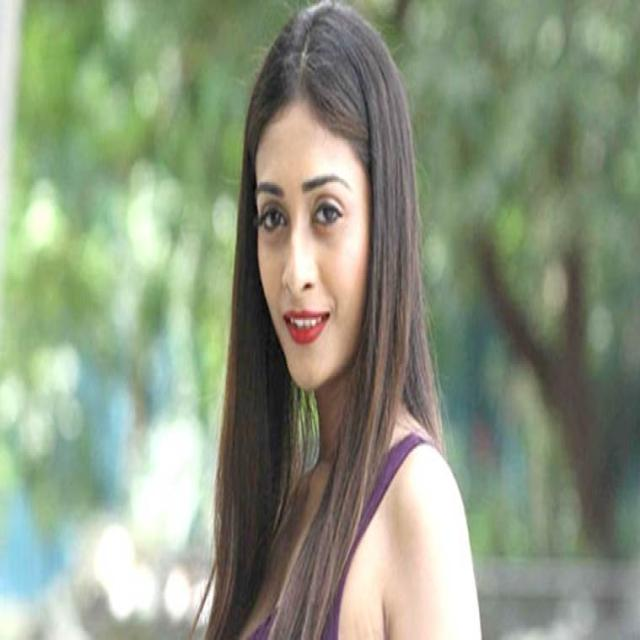human: (203, 20, 488, 640)
